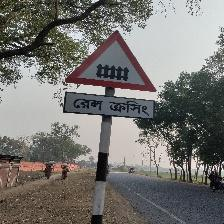Rail-crossing: (63, 31, 159, 121)
